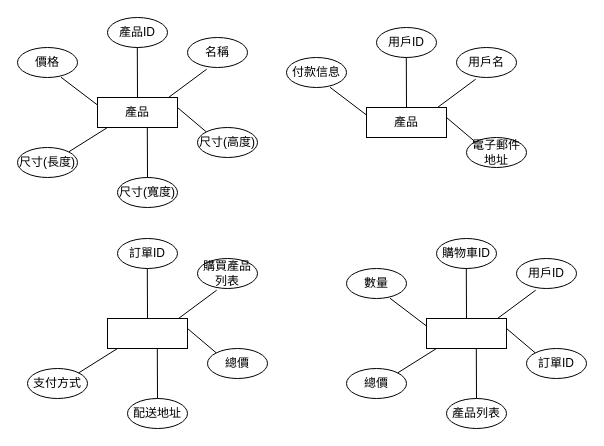
Some shapes in this 604 by 446 pixel diagram are drawn without their labels. The centre of each missing label's shape, as x and y in pixels:
"訂單" belongs at point 147,333.
"購物車" belongs at point 466,333.
